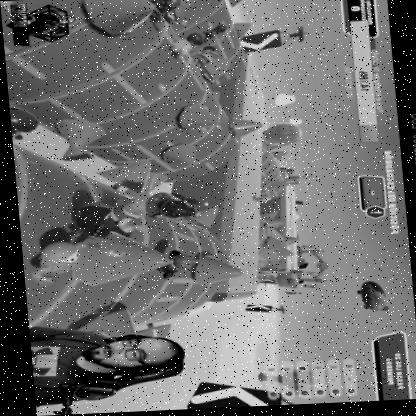streamer: (23, 321, 181, 406)
